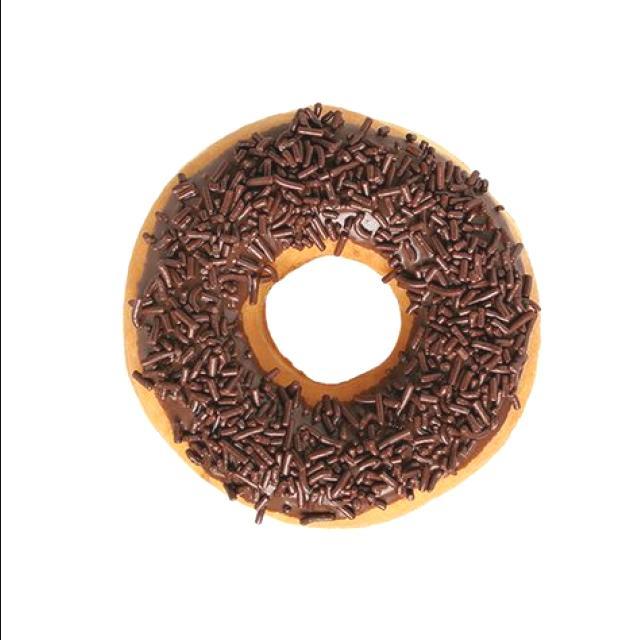donat: (122, 101, 541, 531)
